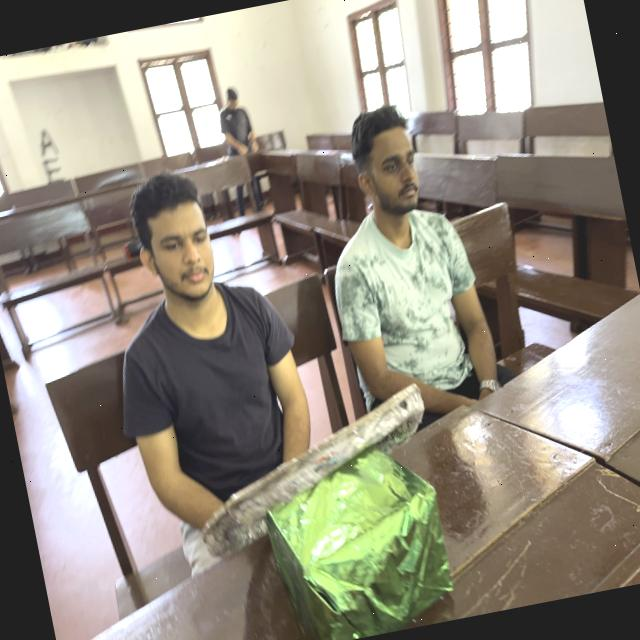Helmet: (103, 275, 332, 534), (320, 200, 510, 418)
